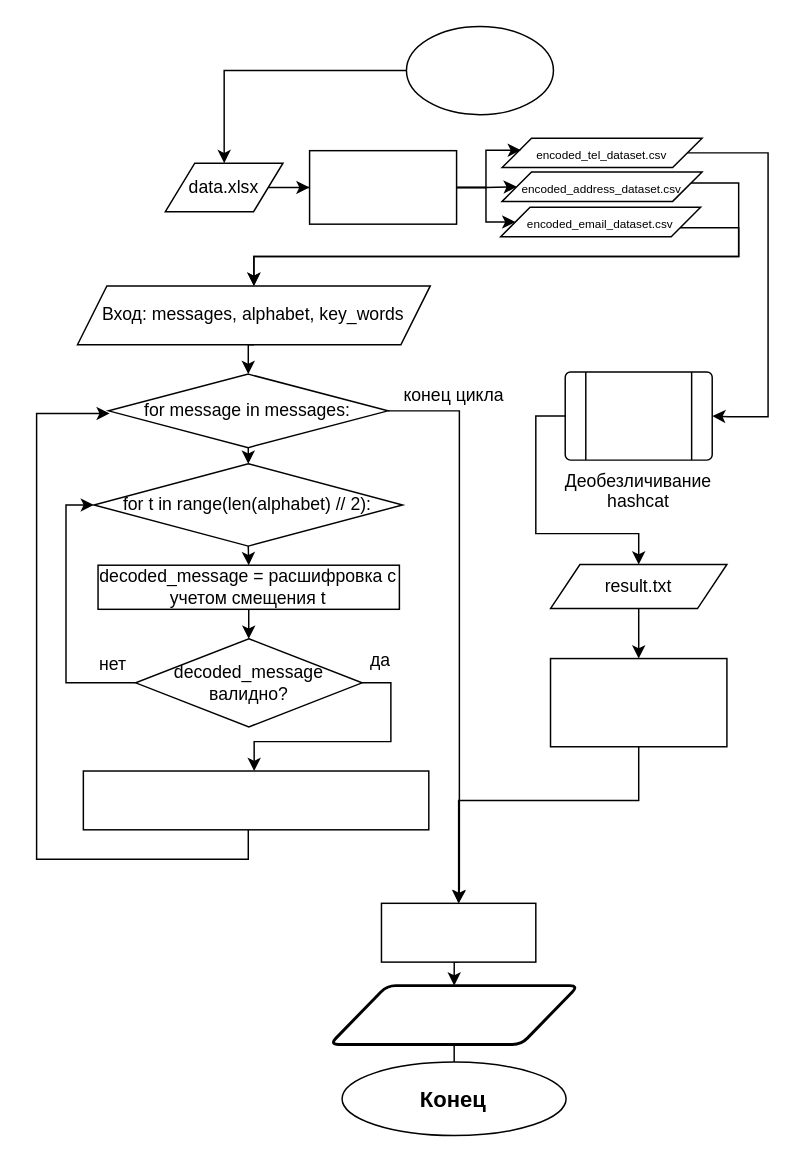
Some shapes in this 806 by 1161 pixel diagram are drawn without their labels. Here are the shapes that lost their labels. From the top down, the centre of each, then its label:
(x=479, y=70): Начало
(x=382, y=186): csv_writer.py
(x=638, y=702): Сопоставление hash -> телефон
(x=255, y=800): Добавить в результат: (message, decoded_message, t)
(x=458, y=932): write_to_csv
(x=453, y=1014): decoded_dataset.csv
